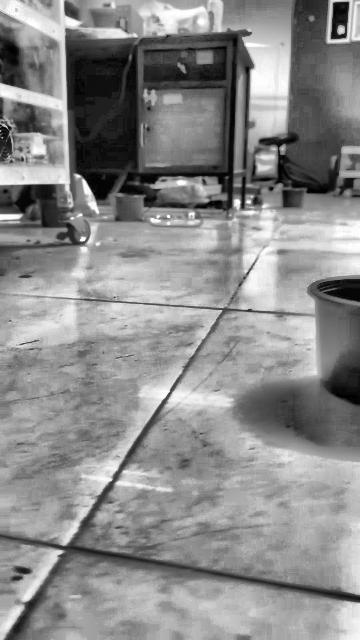pot: (307, 276, 360, 404)
